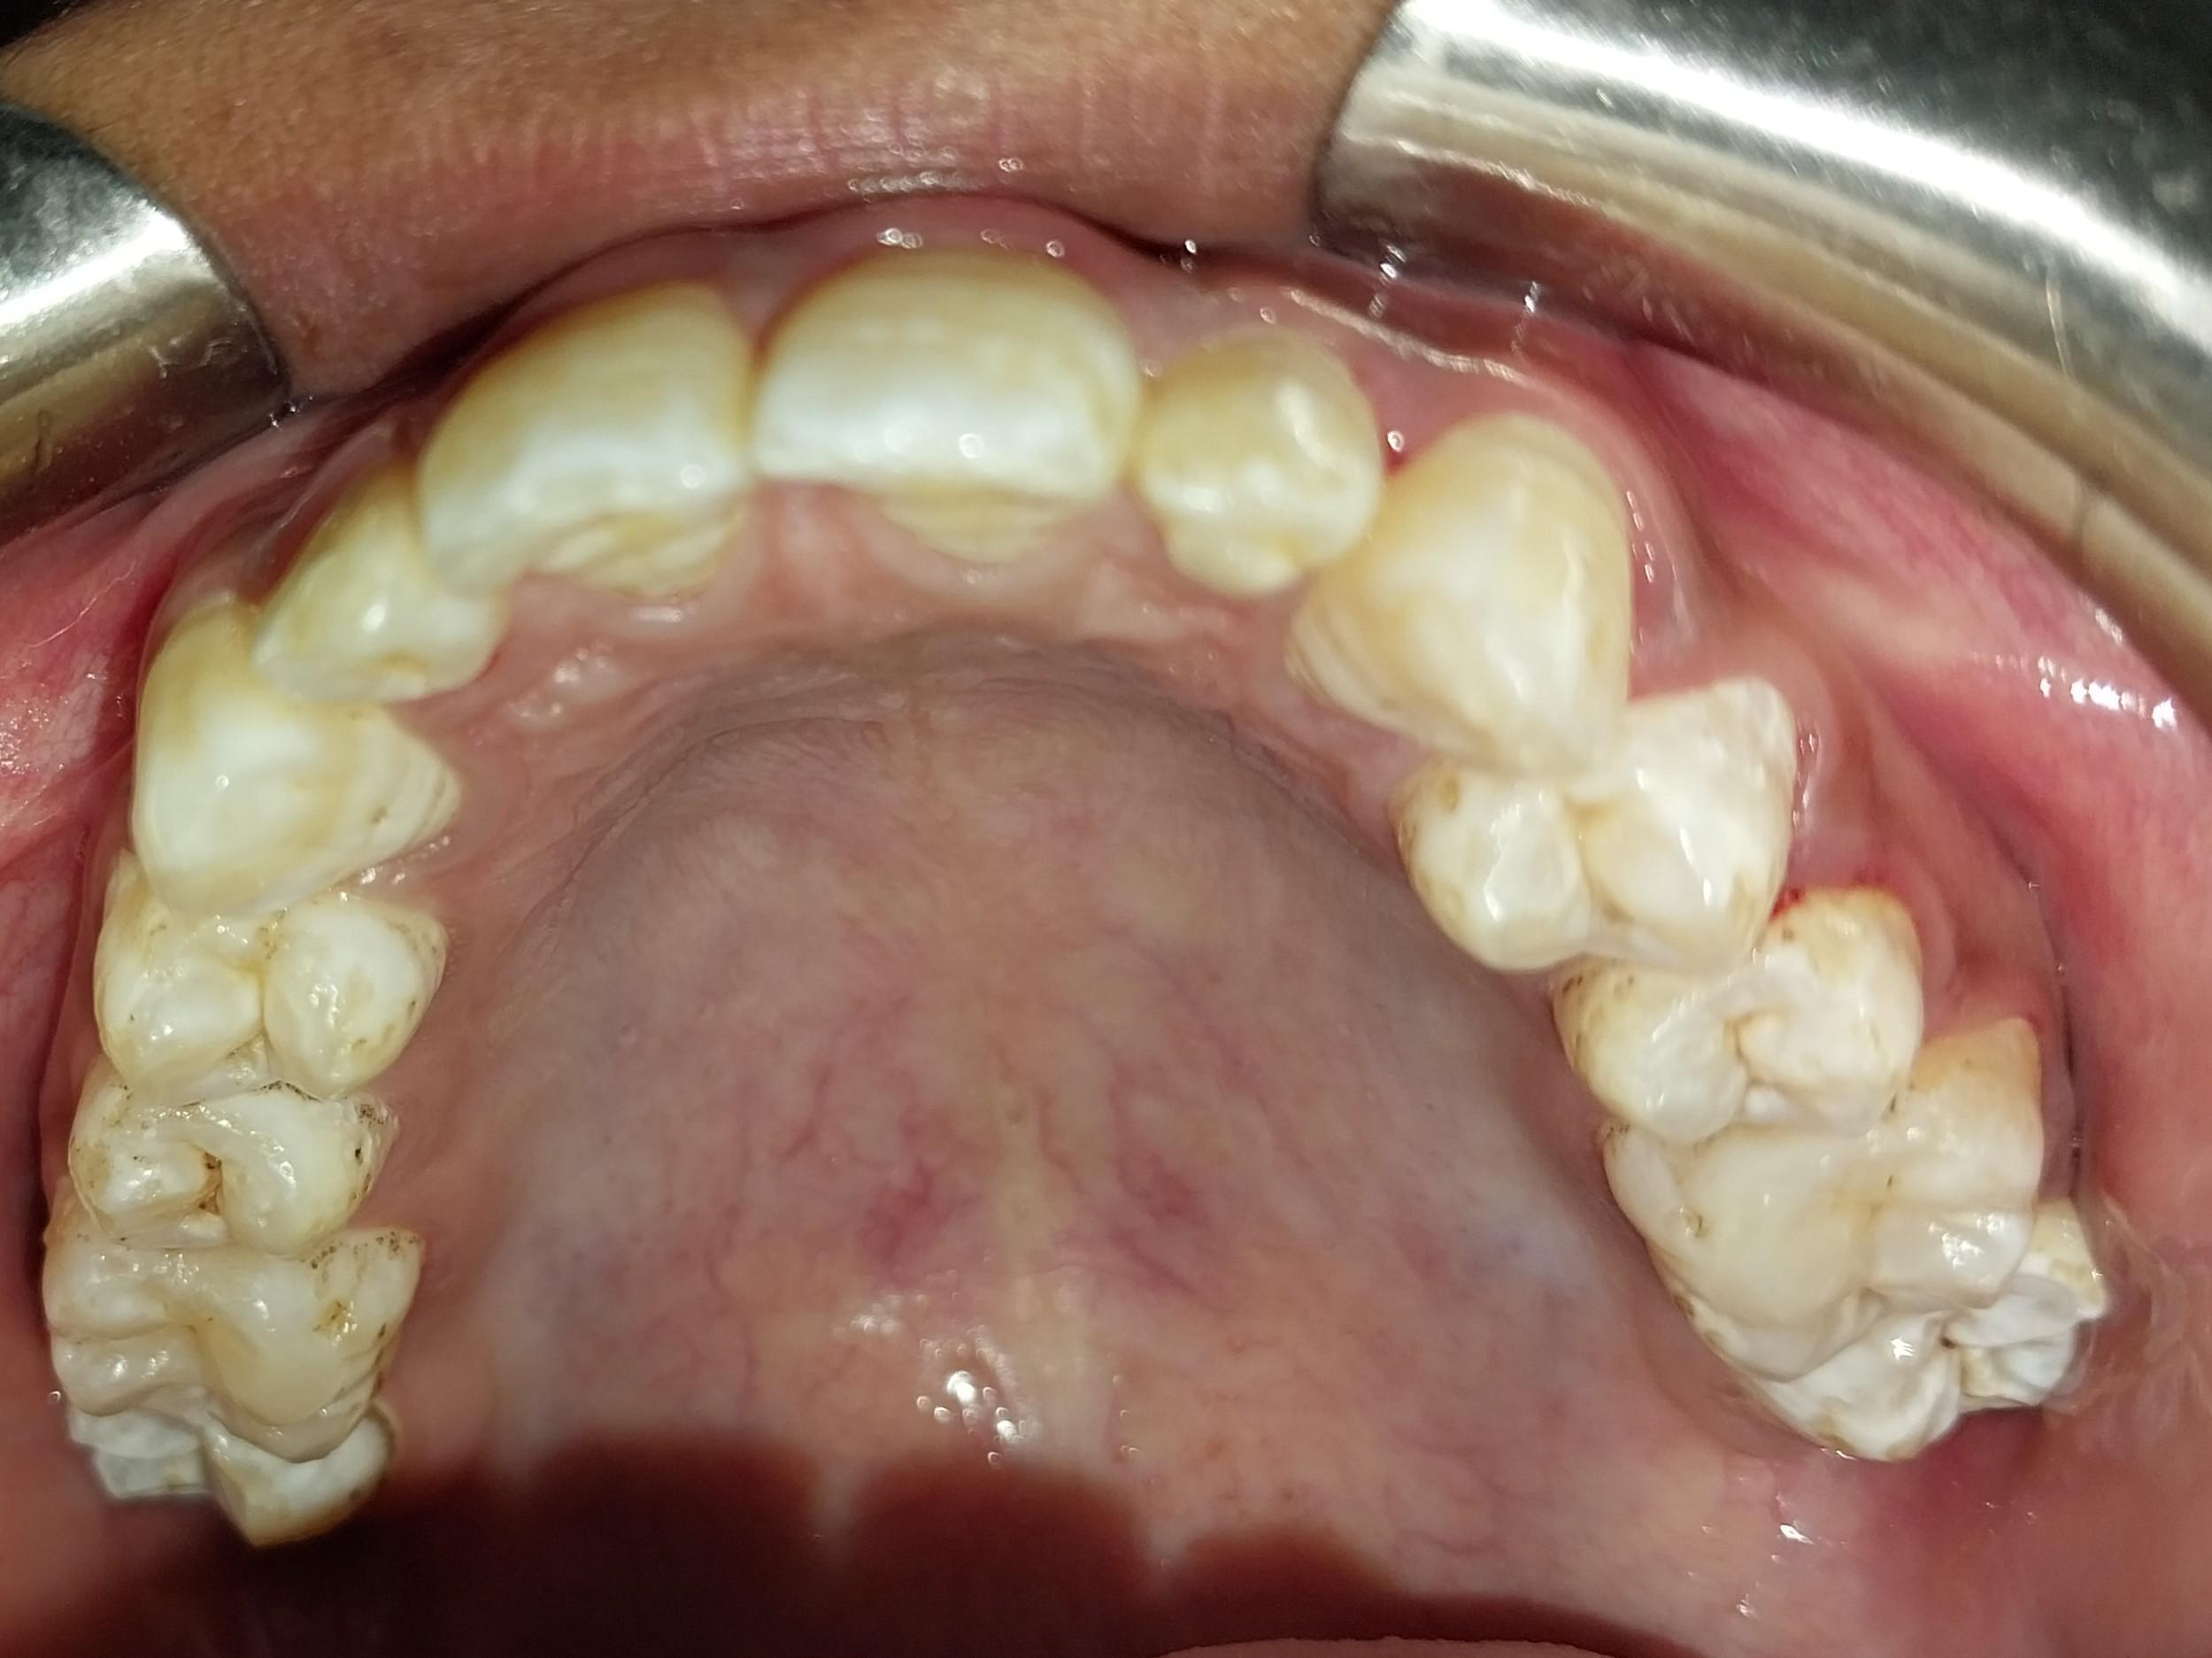D: (1548, 890, 1926, 1144), (1711, 1266, 2125, 1468), (72, 1079, 388, 1258)
